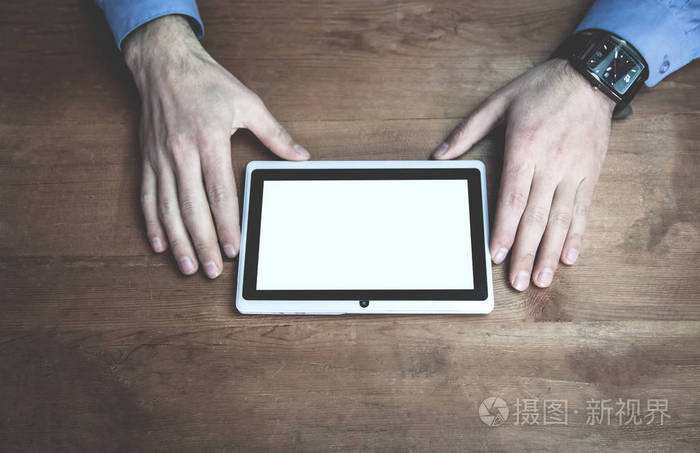pad: (122, 37, 616, 331)
